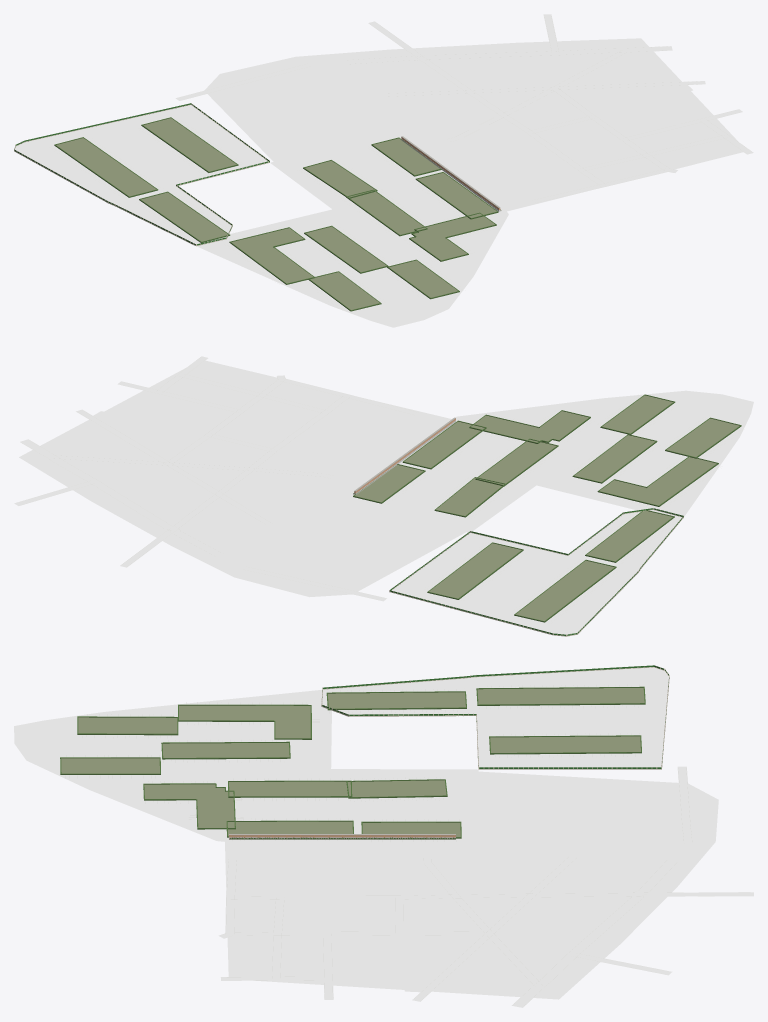
The model's file is ground_fill.glb.
3 views of the same model, one above another, from view 1: azimuth 30°, elevation 25°; view 2: azimuth 150°, elevation 25°; view 3: azimuth 270°, elevation 25° (orthographic). The views are drawn at different scales.
Parts seen in each view (by area): view 1: ground_fill; view 2: ground_fill; view 3: ground_fill.
Part boxes in pixels (x1,y1,x2,y2): ground_fill: (14,14,753,327); ground_fill: (14,356,753,636); ground_fill: (14,665,753,1007).
Size of the model in its own units: 519 by 3.1 by 477.
